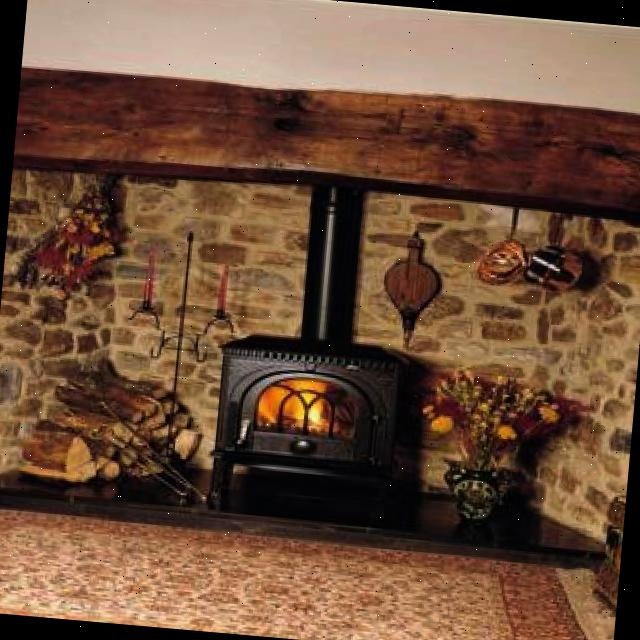fire: (246, 370, 337, 436)
